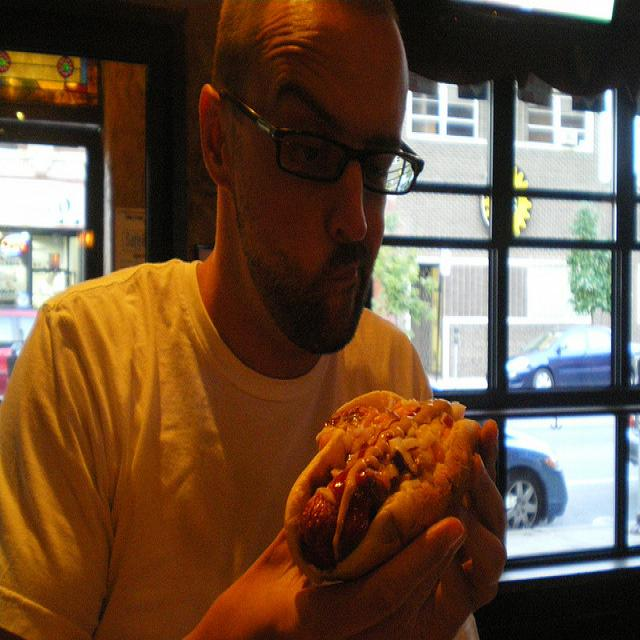Vehicle: (505, 324, 640, 391), (504, 434, 572, 531), (1, 308, 38, 403)
